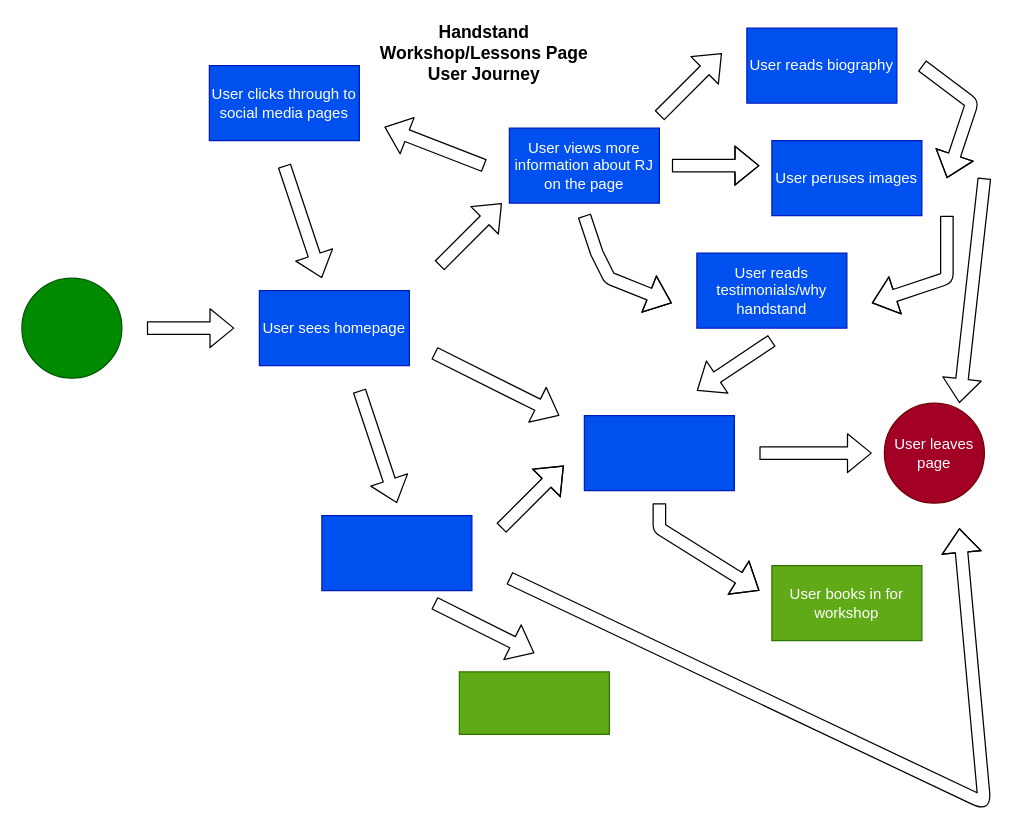
Some shapes in this 1013 by 829 pixel diagram are drawn without their labels. The centre of each missing label's shape, as x and y in pixels:
"User gets in touch regarding handstand tuition" belongs at (533,702).
"User looks at rates for private tuition" belongs at (396,552).
"User looks at upcoming workshop dates" belongs at (658,452).
"User reaches page" belongs at (71,327).
